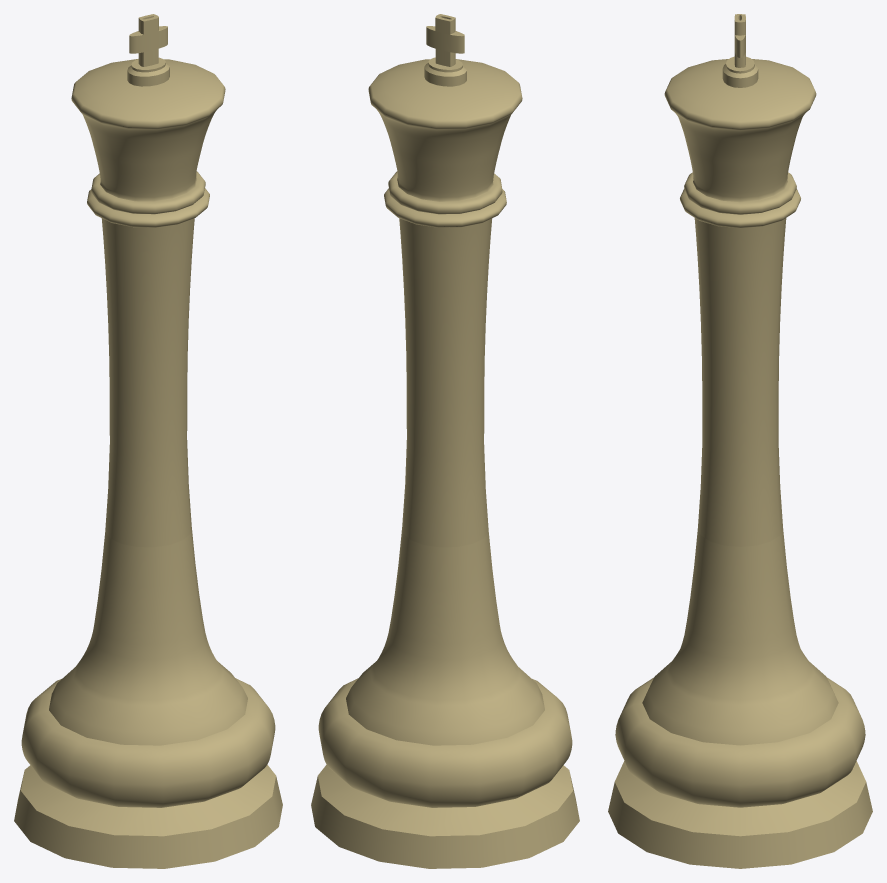
File: King_piece.fbx
3 renders of one model, left to right at view 1: azimuth 30°, elevation 25°; view 2: azimuth 150°, elevation 25°; view 3: azimuth 270°, elevation 25°, orthographic.
Parts seen in each view (by area): view 1: King; view 2: King; view 3: King.
Boxes of the visible parts, left/top/right/bottom form: King: left=14, top=14, right=282, bottom=868; King: left=311, top=14, right=579, bottom=868; King: left=608, top=14, right=872, bottom=868.
Size of the model in its own units: 2.59 by 8.32 by 2.52.
